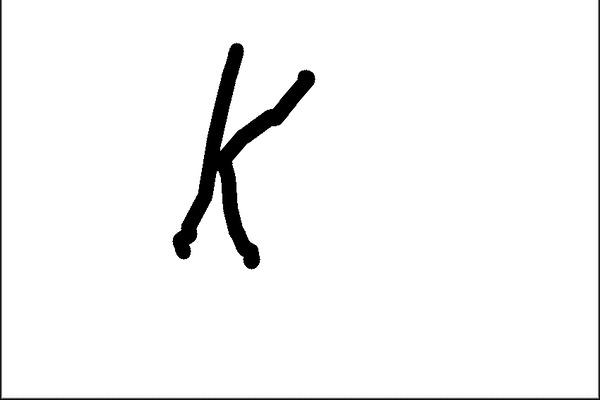K: (166, 38, 320, 273)
